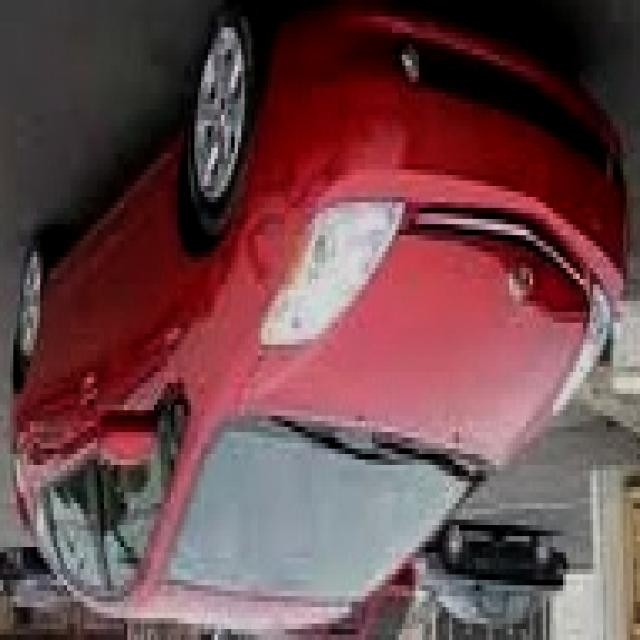red: (0, 0, 629, 628)
